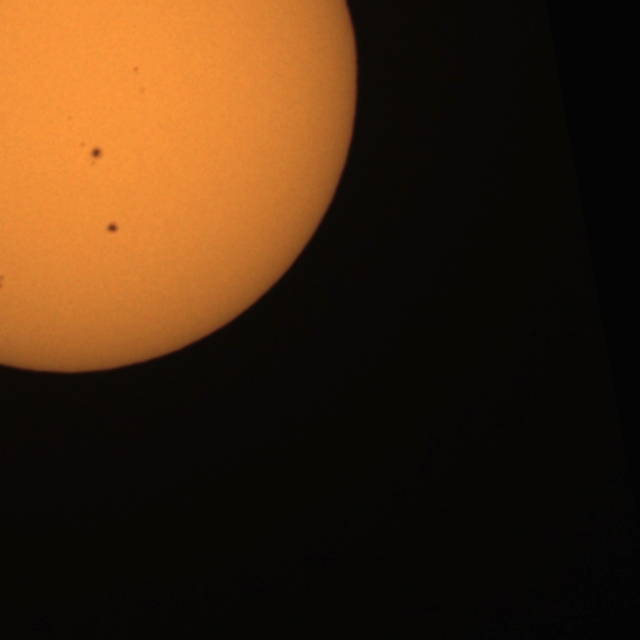sunspot: (86, 144, 105, 167), (105, 220, 120, 235), (0, 270, 6, 294), (131, 65, 140, 75)
